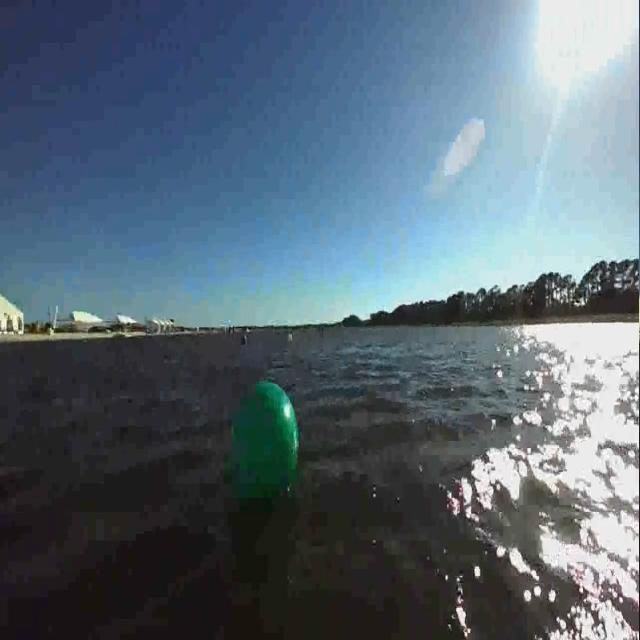green-buoy: (228, 376, 300, 514)
